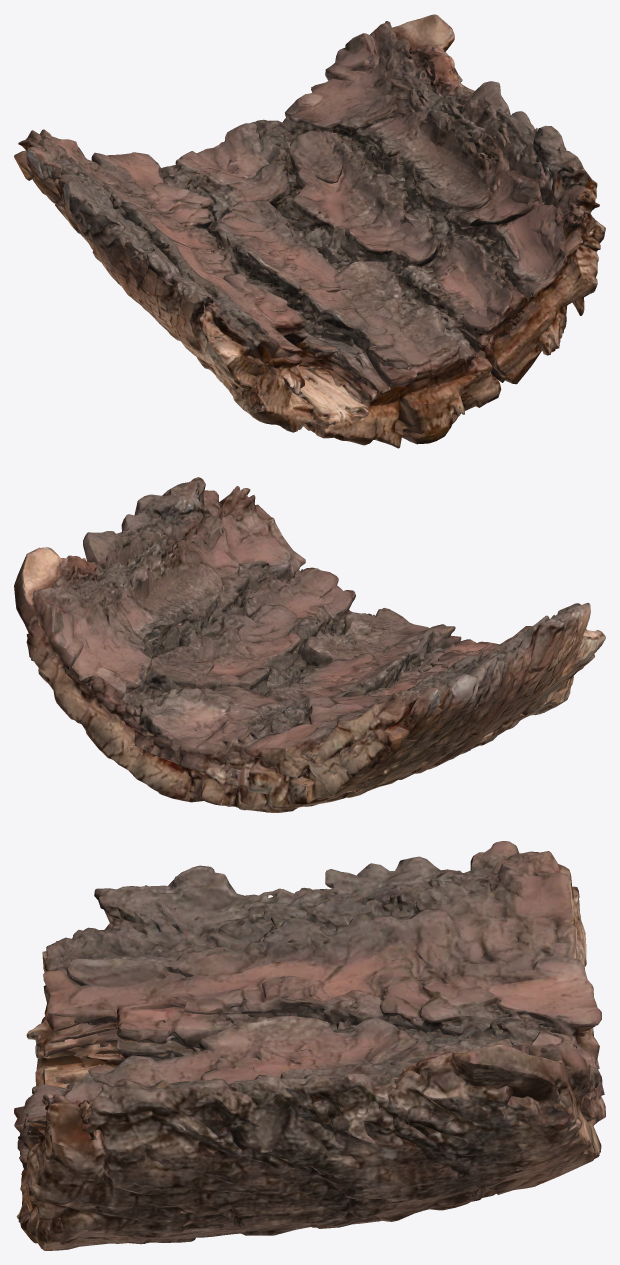
Rendered from bark-flake-v11-lod.glb.
3 renders of one model, top to bottom at view 1: azimuth 30°, elevation 25°; view 2: azimuth 150°, elevation 25°; view 3: azimuth 270°, elevation 25°, orthographic. The views are drawn at different scales.
Parts seen in each view (by area): view 1: geometry_0; view 2: geometry_0; view 3: geometry_0.
Part boxes in pixels (bbox=[...]): geometry_0: bbox=[14, 14, 605, 448]; geometry_0: bbox=[14, 477, 605, 812]; geometry_0: bbox=[14, 841, 605, 1250].
Size of the model in its own units: 0.3497 by 0.1988 by 0.3429.
Materials: 1 (1 with a texture image).
